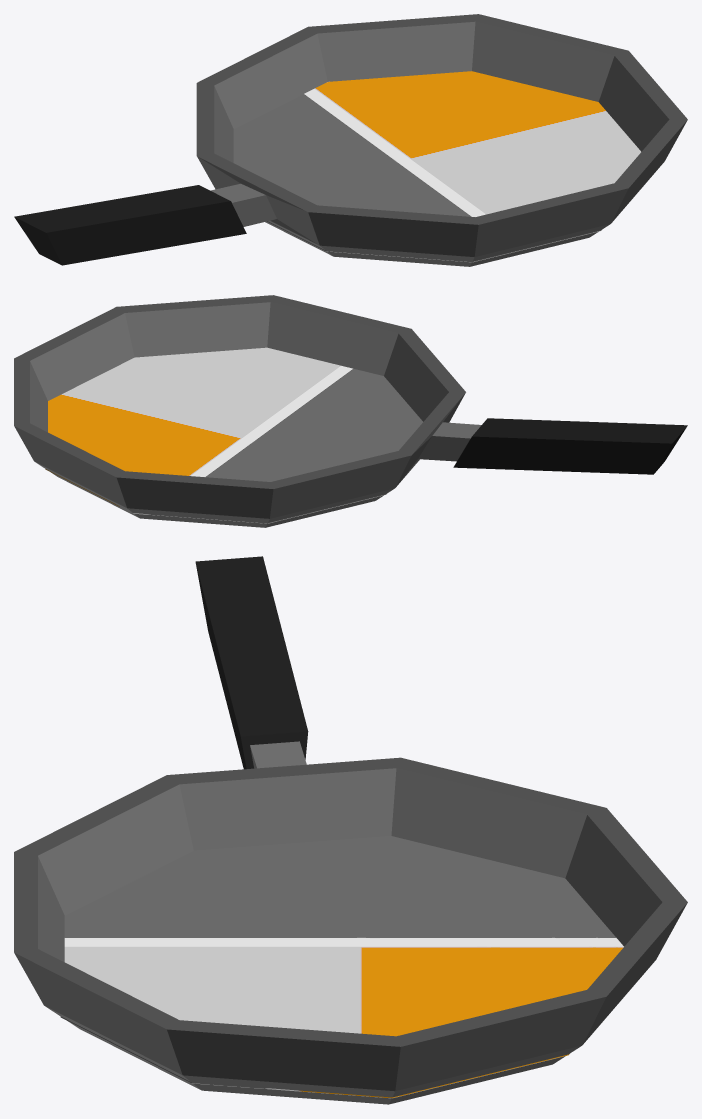
File: skovoroda.fbx
3 renders of one model, top to bottom at view 1: azimuth 30°, elevation 25°; view 2: azimuth 150°, elevation 25°; view 3: azimuth 270°, elevation 25°, orthographic. The views are drawn at different scales.
Visible parts, largest first — view 1: Cylinder; view 2: Cylinder; view 3: Cylinder.
Boxes of the visible parts, x1=… form: Cylinder: x1=14, y1=14, x2=687, y2=266; Cylinder: x1=14, y1=295, x2=687, y2=527; Cylinder: x1=14, y1=556, x2=687, y2=1104.
Size of the model in its own units: 354 by 48.97 by 226.
